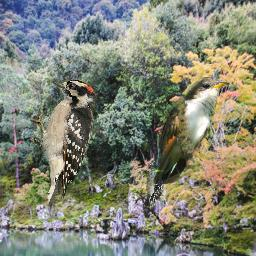Cuckoo: (153, 77, 230, 184)
Woodpecker: (30, 80, 98, 218), (146, 160, 165, 208)
